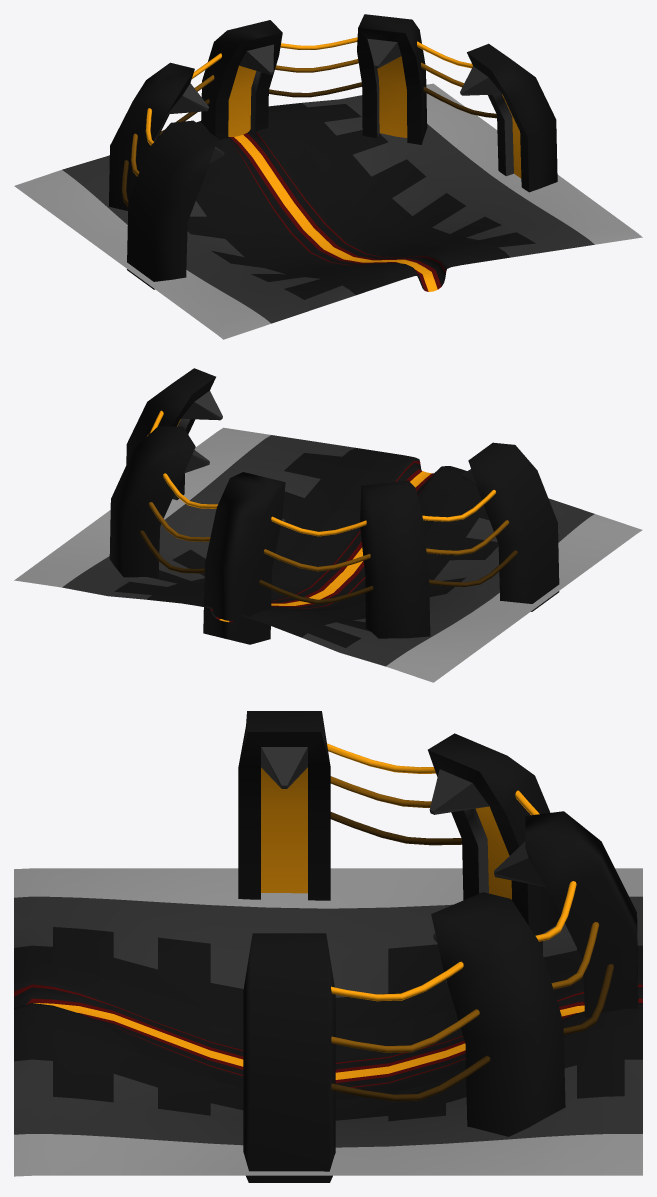
Rendered from ShipSection_BossBowl.FBX.
The picture shows the model from 3 angles, top to bottom: view 1: azimuth 30°, elevation 25°; view 2: azimuth 150°, elevation 25°; view 3: azimuth 270°, elevation 25°; orthographic projection. The views are drawn at different scales.
Parts seen in each view (by area): view 1: Bowl; view 2: Bowl; view 3: Bowl.
Boxes of the visible parts, x1,y1,x2,y2 form: Bowl: [14, 14, 642, 339]; Bowl: [14, 368, 642, 682]; Bowl: [14, 711, 642, 1182].
Bounding box in the file's own units: 703 × 266 × 608.
